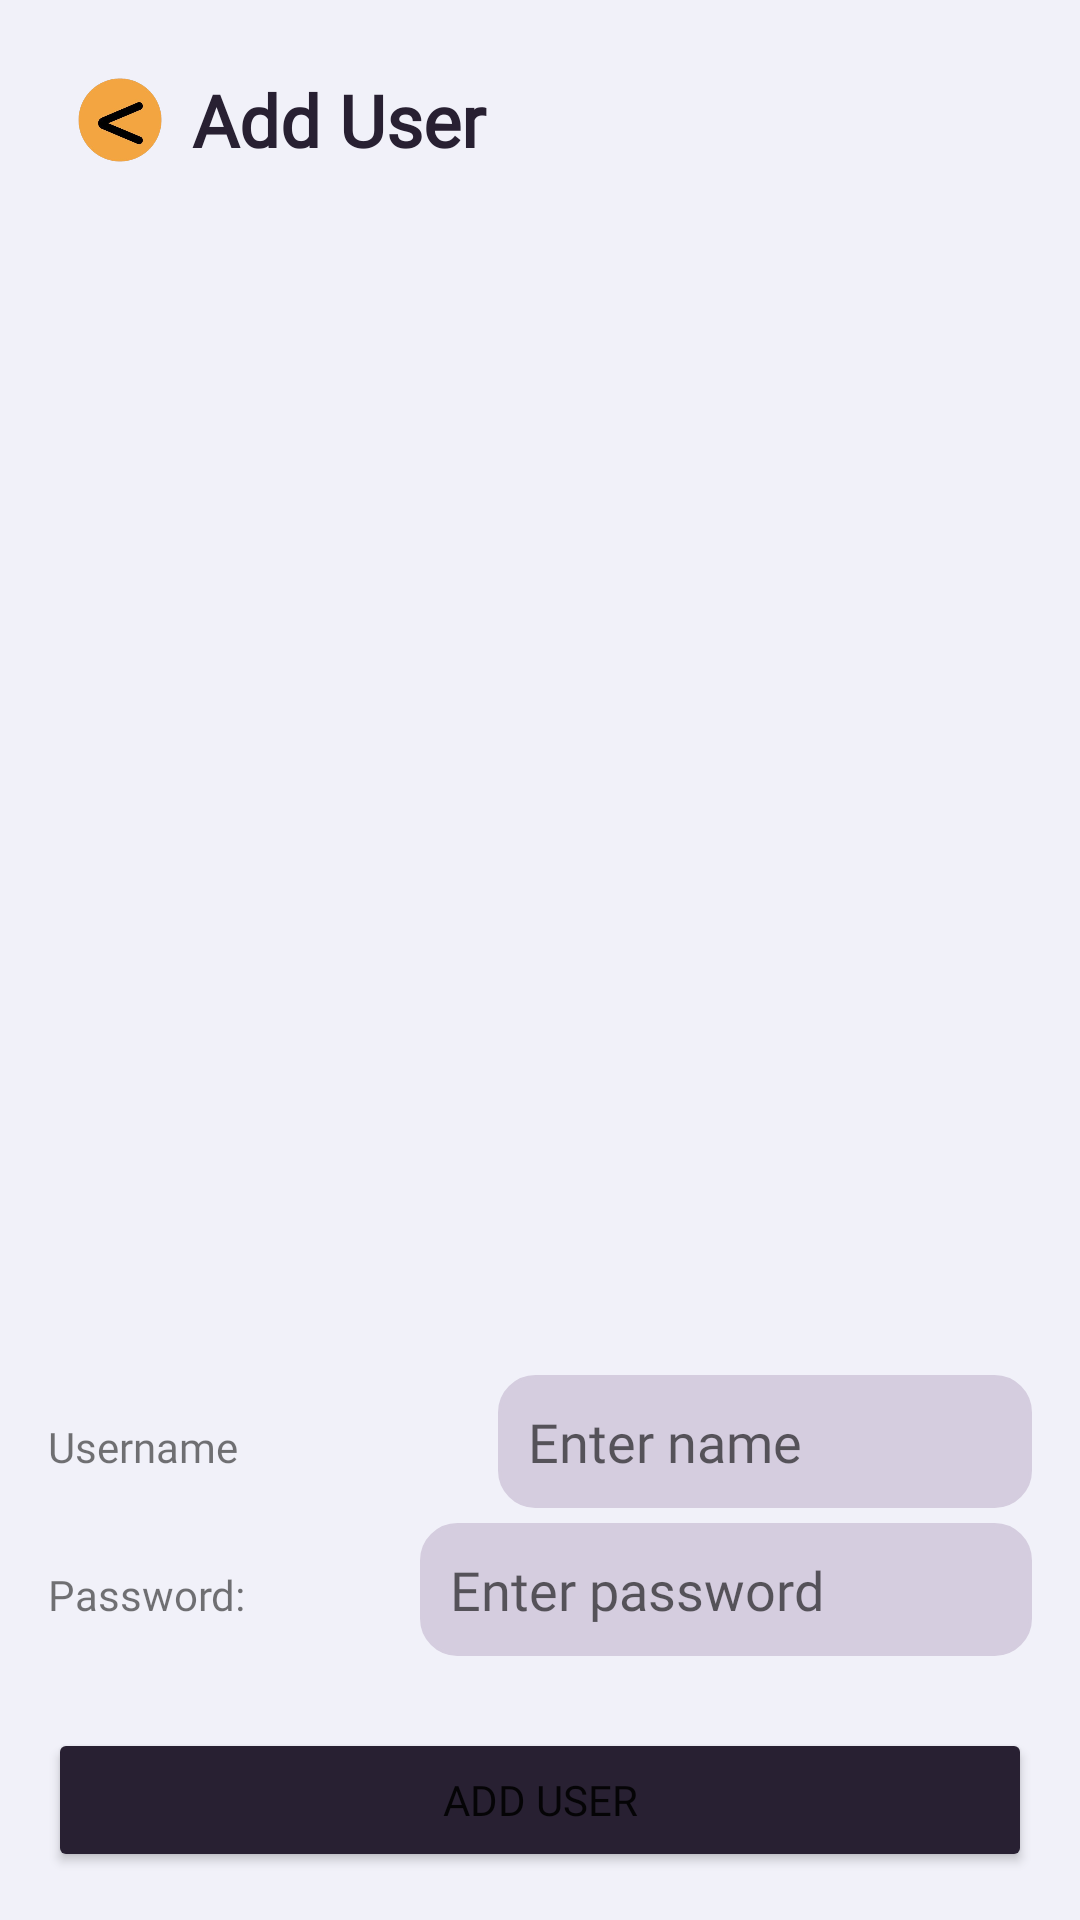

Where to tap for icons on this 1080px×1920px app screen, as (x,y):
Back Button: (120,120)
